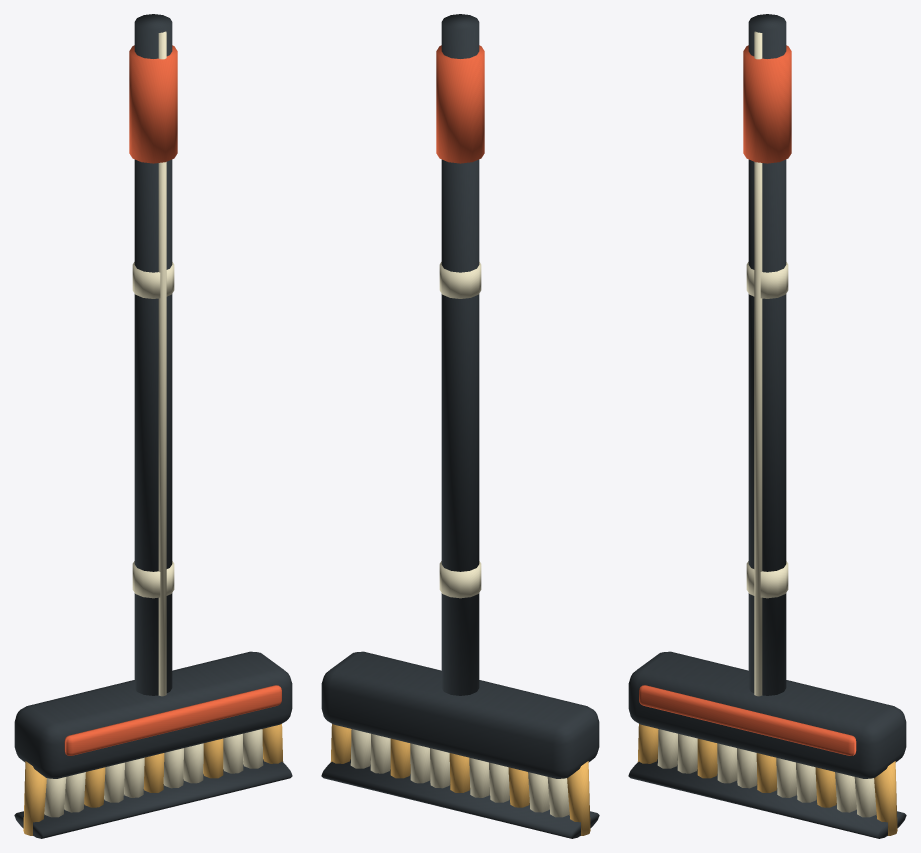
Rendered from tool-broom.glb.
The picture shows the model from 3 angles, left to right: view 1: azimuth 30°, elevation 25°; view 2: azimuth 150°, elevation 25°; view 3: azimuth 330°, elevation 25°; orthographic projection.
Parts seen in each view (by area): view 1: Telescopic broom handle, Broom head, Broom dark contact edge, Broom grip, Broom shaft highlight, Broom coral head band, Bristle tuft 0, Broom cream collar -1.3, Broom cream collar -0.48, Bristle tuft 1, Bristle tuft 9, Bristle tuft 8 (+9 smaller); view 2: Broom head, Telescopic broom handle, Broom dark contact edge, Broom grip, Bristle tuft 0, Broom cream collar -1.3, Broom cream collar -0.48, Bristle tuft 1, Bristle tuft 9, Bristle tuft 8, Bristle tuft 2, Bristle tuft 3 (+7 smaller); view 3: Telescopic broom handle, Broom head, Broom dark contact edge, Broom grip, Broom shaft highlight, Broom coral head band, Bristle tuft 12, Broom cream collar -1.3, Broom cream collar -0.48, Bristle tuft 11, Bristle tuft 3, Bristle tuft 4 (+9 smaller).
Part boxes in pixels (left/top/right/bottom): Telescopic broom handle: left=134, top=14, right=172, bottom=695; Broom head: left=14, top=651, right=292, bottom=778; Broom dark contact edge: left=14, top=759, right=292, bottom=838; Broom grip: left=129, top=45, right=177, bottom=163; Broom shaft highlight: left=158, top=31, right=166, bottom=696; Broom coral head band: left=64, top=685, right=281, bottom=755; Bristle tuft 0: left=23, top=761, right=46, bottom=835; Broom cream collar -1.3: left=132, top=561, right=174, bottom=598; Broom cream collar -0.48: left=132, top=262, right=174, bottom=298; Bristle tuft 1: left=44, top=777, right=66, bottom=817; Bristle tuft 9: left=203, top=738, right=223, bottom=778; Bristle tuft 8: left=183, top=743, right=203, bottom=783; Broom head: left=321, top=651, right=599, bottom=778; Telescopic broom handle: left=441, top=14, right=479, bottom=695; Broom dark contact edge: left=321, top=759, right=599, bottom=838; Broom grip: left=436, top=45, right=484, bottom=163; Bristle tuft 0: left=567, top=761, right=590, bottom=835; Broom cream collar -1.3: left=439, top=561, right=481, bottom=598; Broom cream collar -0.48: left=439, top=262, right=481, bottom=298; Bristle tuft 1: left=547, top=777, right=569, bottom=817; Bristle tuft 9: left=390, top=738, right=410, bottom=778; Bristle tuft 8: left=410, top=743, right=430, bottom=783; Bristle tuft 2: left=528, top=772, right=549, bottom=812; Bristle tuft 3: left=508, top=767, right=529, bottom=807; Telescopic broom handle: left=748, top=14, right=786, bottom=695; Broom head: left=628, top=651, right=906, bottom=778; Broom dark contact edge: left=628, top=759, right=906, bottom=838; Broom grip: left=743, top=45, right=791, bottom=163; Broom shaft highlight: left=754, top=31, right=762, bottom=696; Broom coral head band: left=639, top=685, right=856, bottom=755; Bristle tuft 12: left=874, top=761, right=897, bottom=835; Broom cream collar -1.3: left=746, top=561, right=788, bottom=598; Broom cream collar -0.48: left=746, top=262, right=788, bottom=298; Bristle tuft 11: left=854, top=777, right=876, bottom=817; Bristle tuft 3: left=697, top=738, right=717, bottom=778; Bristle tuft 4: left=717, top=743, right=737, bottom=783.
Size of the model in its own units: 0.74 by 2.14 by 0.207.
Materials: 2 (2 with a texture image).
